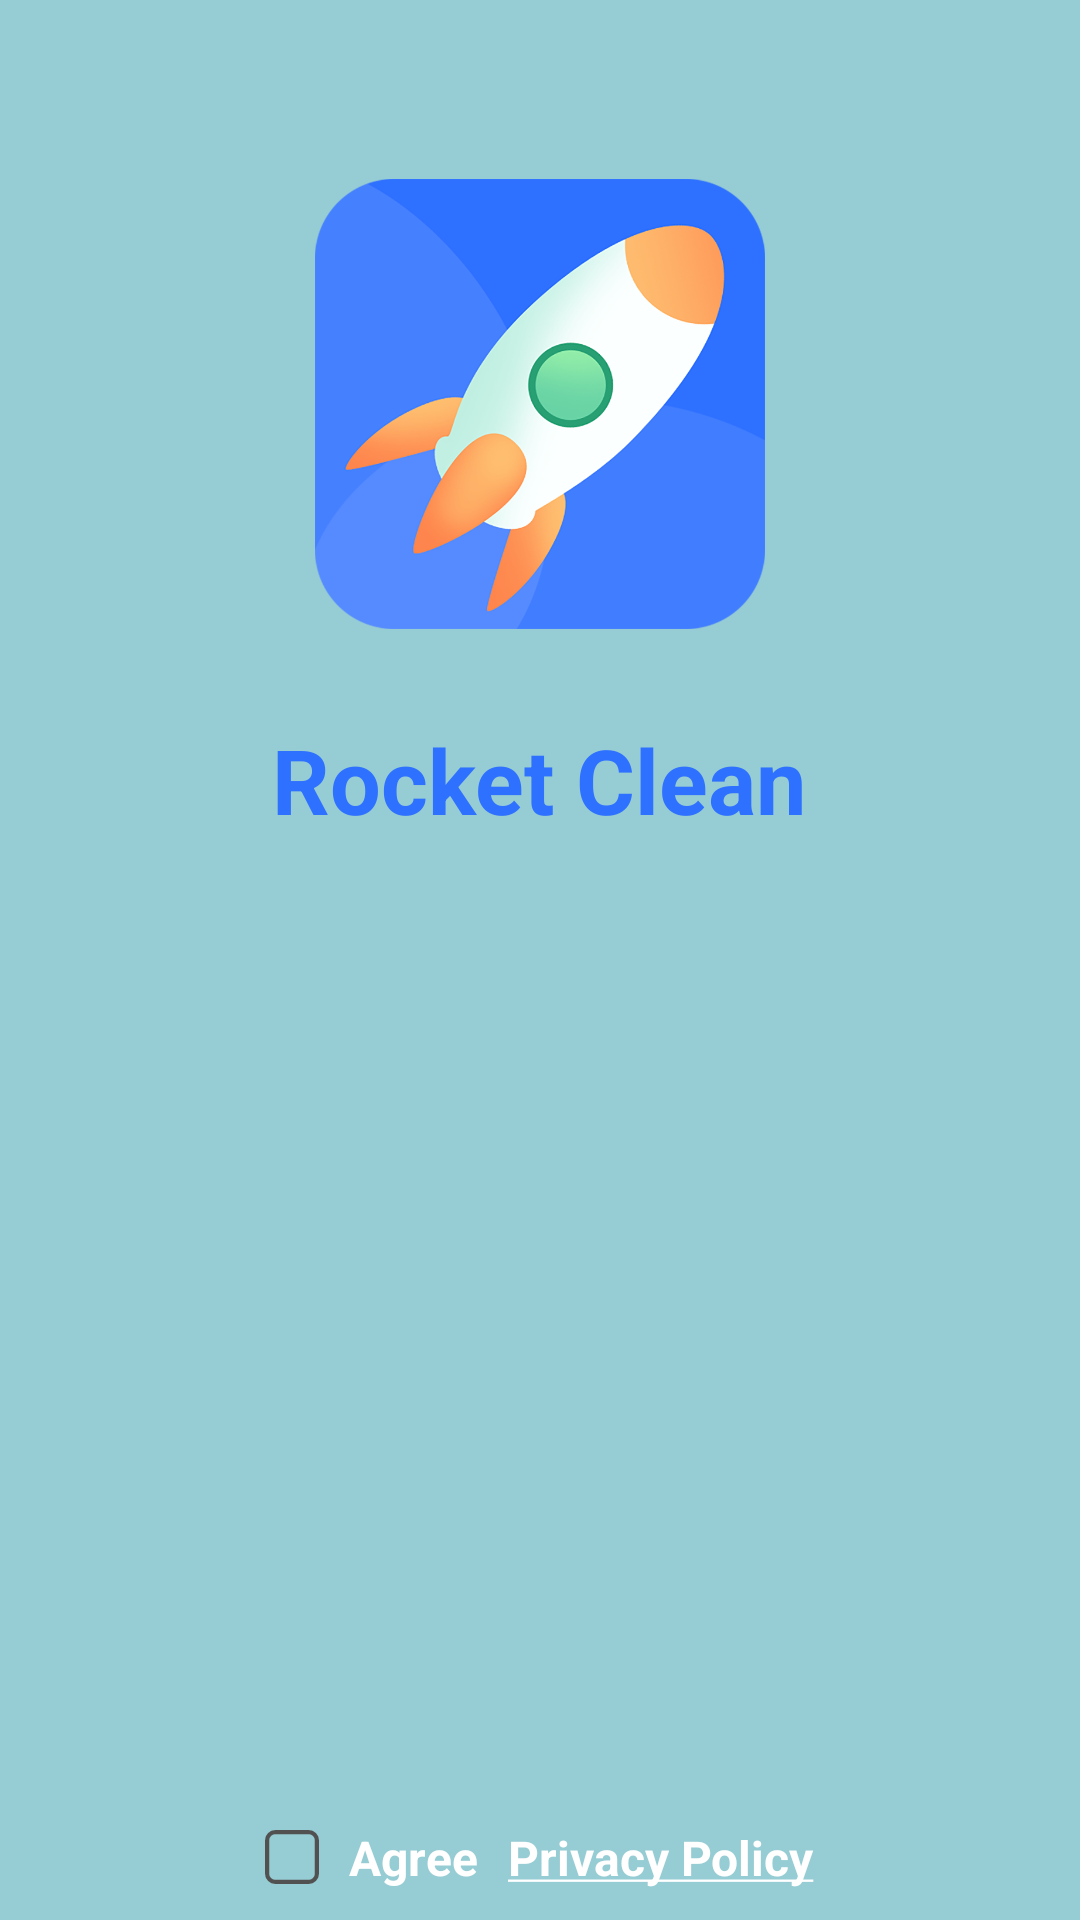

Point at icon controls on the screen. Image size 1080px x 1920px, points as (x,y).
select no: (292,1857)
